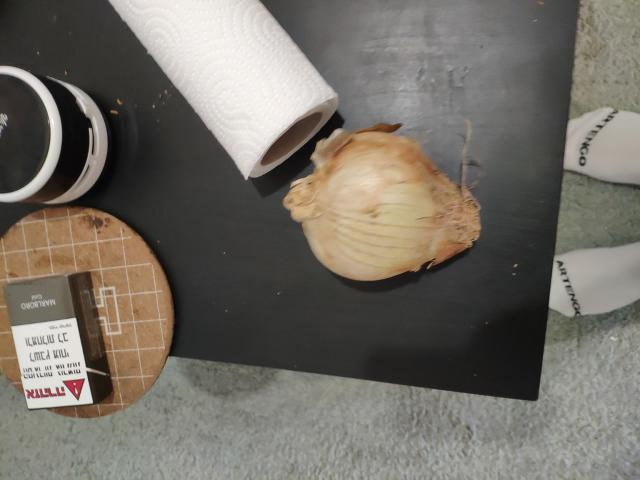onion: (403, 333, 492, 422)
